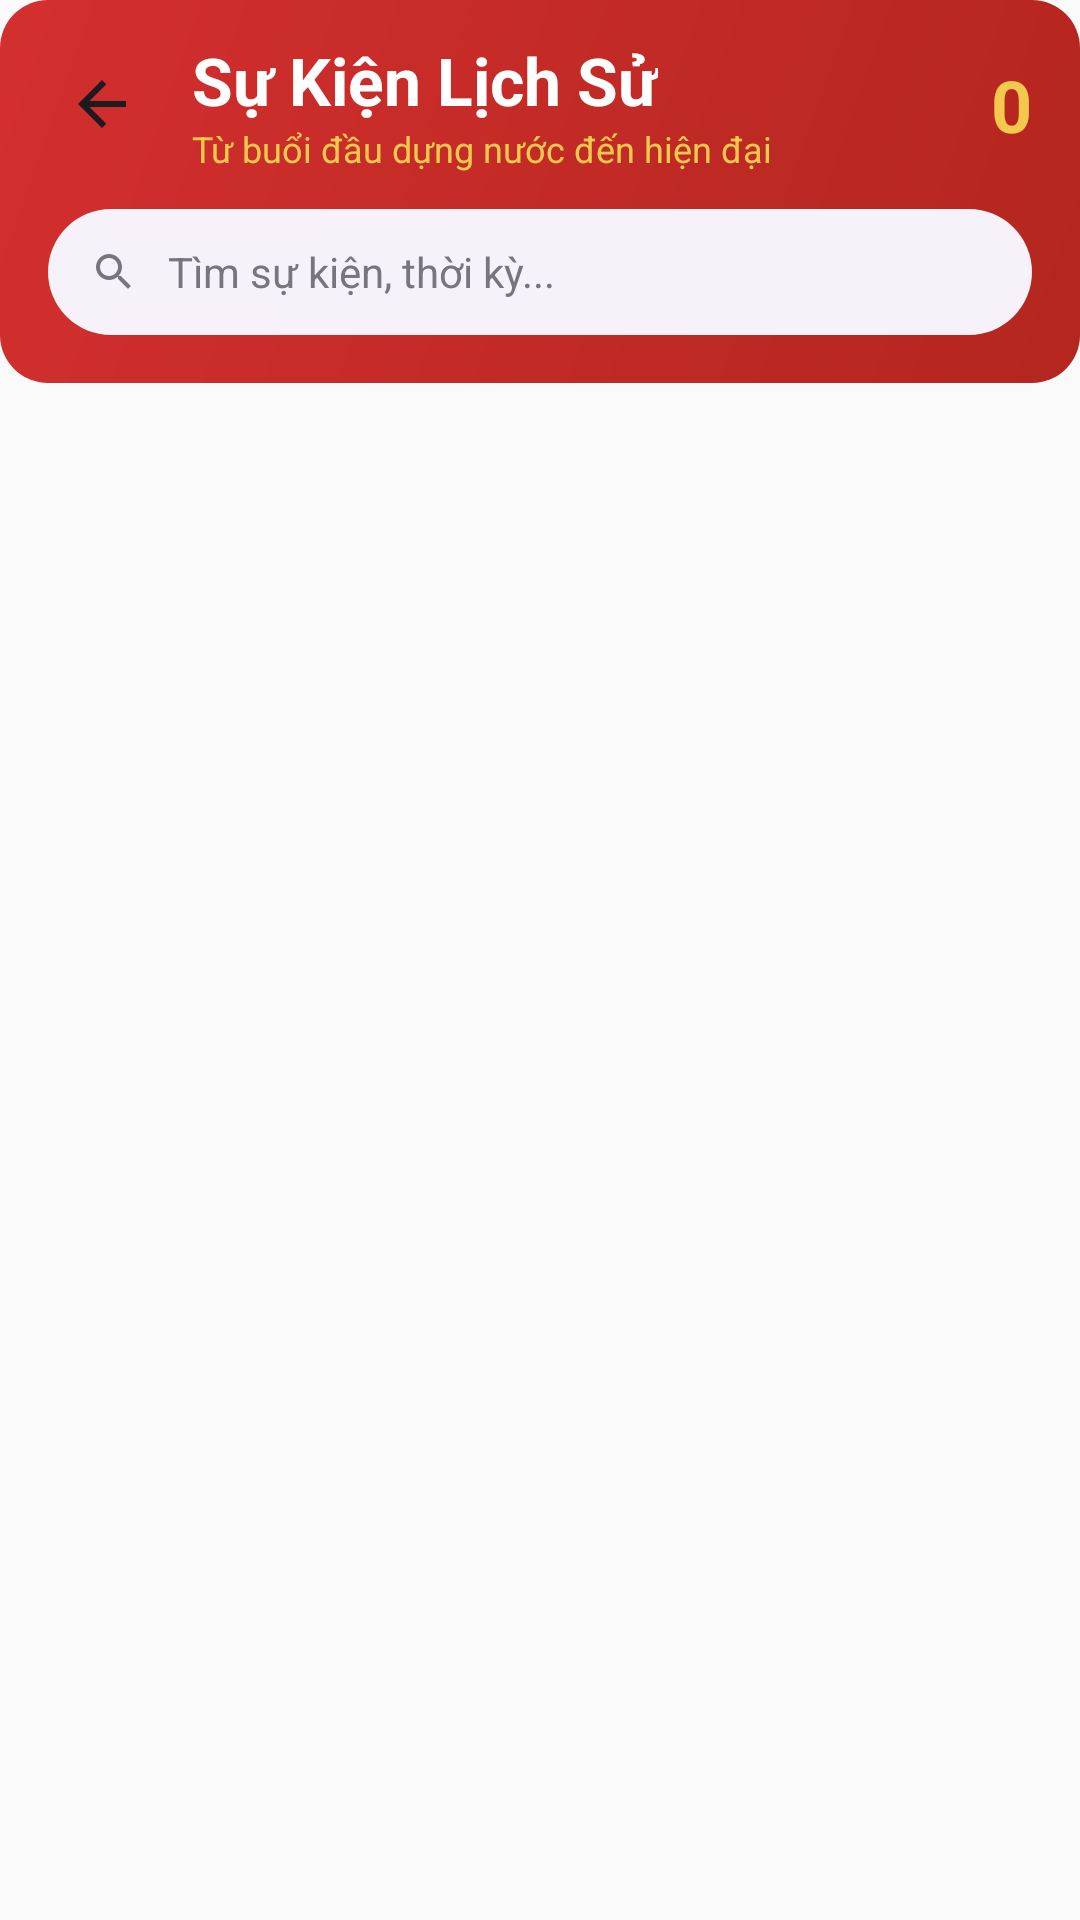

Named icons in this screenshot (1080 x 1920) and their bounding boxes, (x1, y1, x2, y2):
arrow back: (78, 80, 126, 128)
search: (96, 254, 131, 289)
